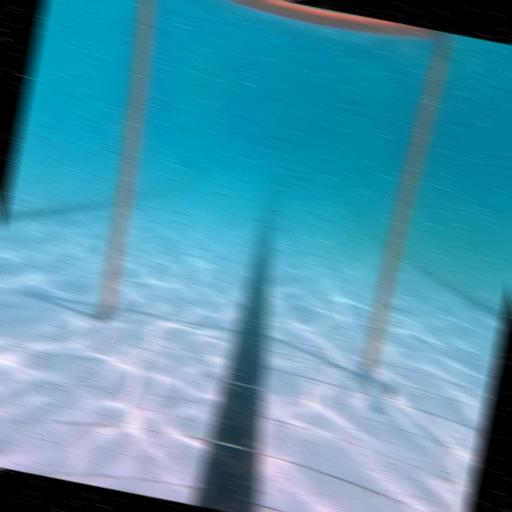gate: (71, 0, 465, 400)
